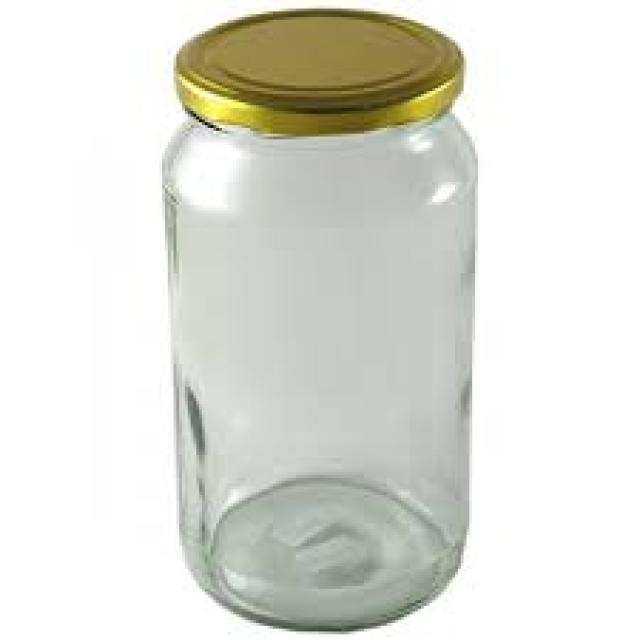glass: (162, 117, 478, 629)
metal: (174, 6, 464, 131)
